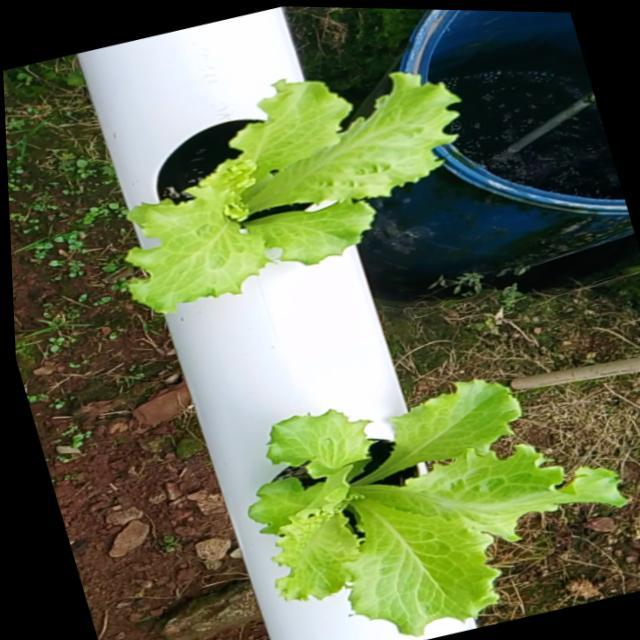Baby: (244, 379, 624, 640), (120, 68, 457, 310)
